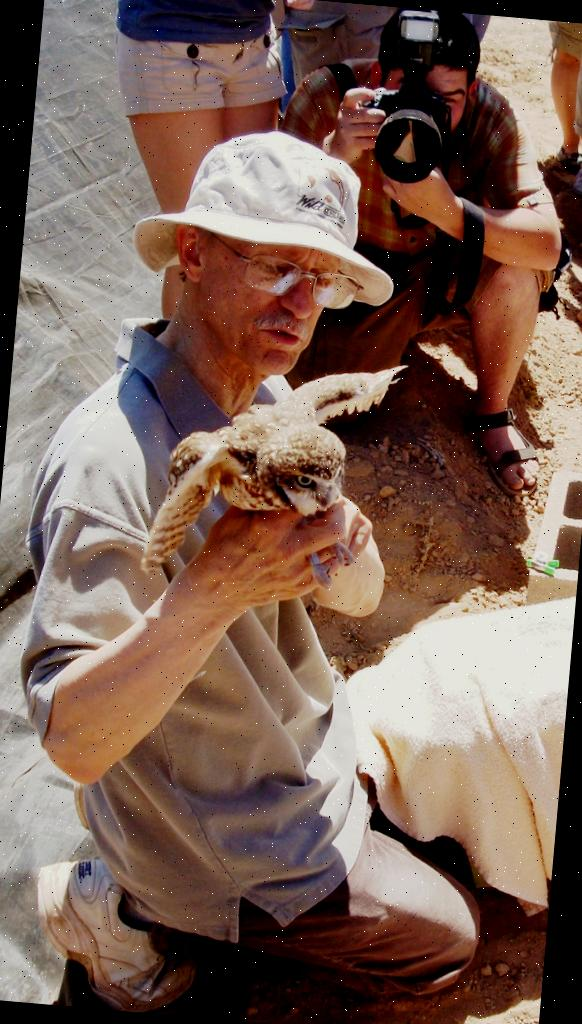Owl: (138, 341, 407, 619)
